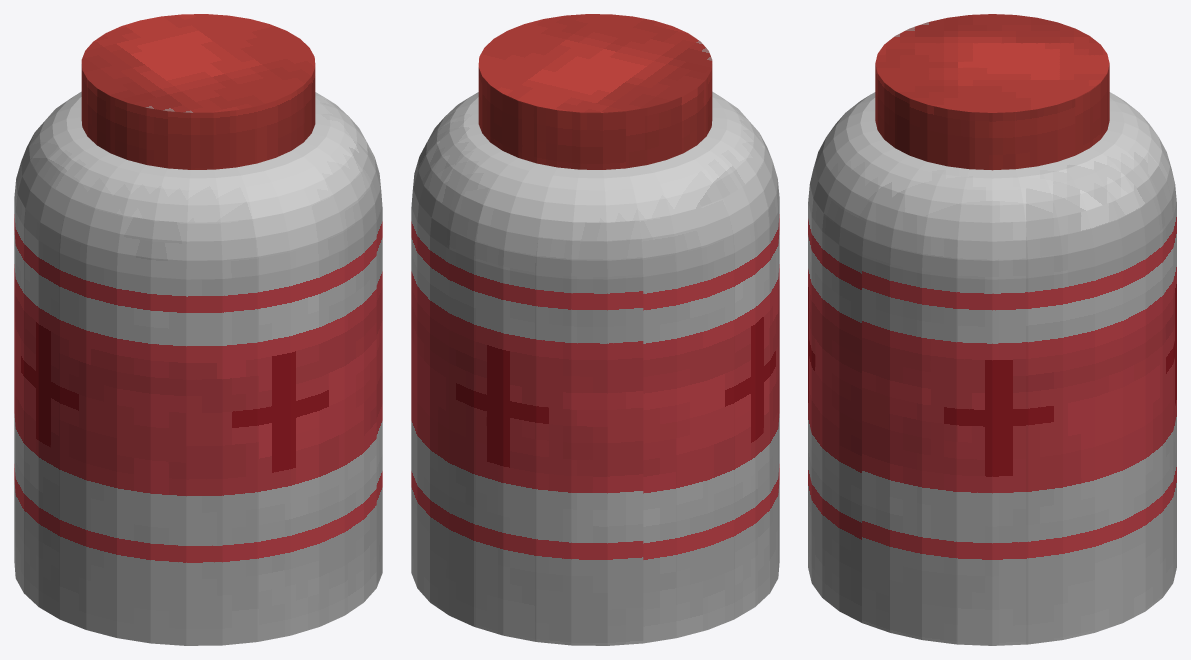
File: Medicine_01.obj
3 renders of one model, left to right at view 1: azimuth 30°, elevation 25°; view 2: azimuth 150°, elevation 25°; view 3: azimuth 270°, elevation 25°, orthographic.
Parts seen in each view (by area): view 1: Medicine(Bottle); view 2: Medicine(Bottle); view 3: Medicine(Bottle).
Boxes of the visible parts, x1,y1,x2,y2 form: Medicine(Bottle): (14,14,382,645); Medicine(Bottle): (411,14,779,645); Medicine(Bottle): (808,14,1176,645).
Bounding box in the file's own units: 0.7491 × 1.13 × 0.7491.
